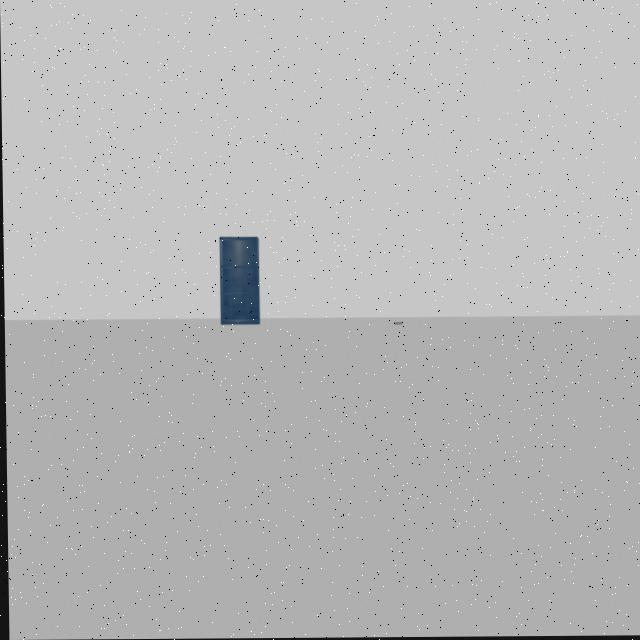bowl: (389, 314, 406, 331)
shelf: (213, 234, 268, 336)
